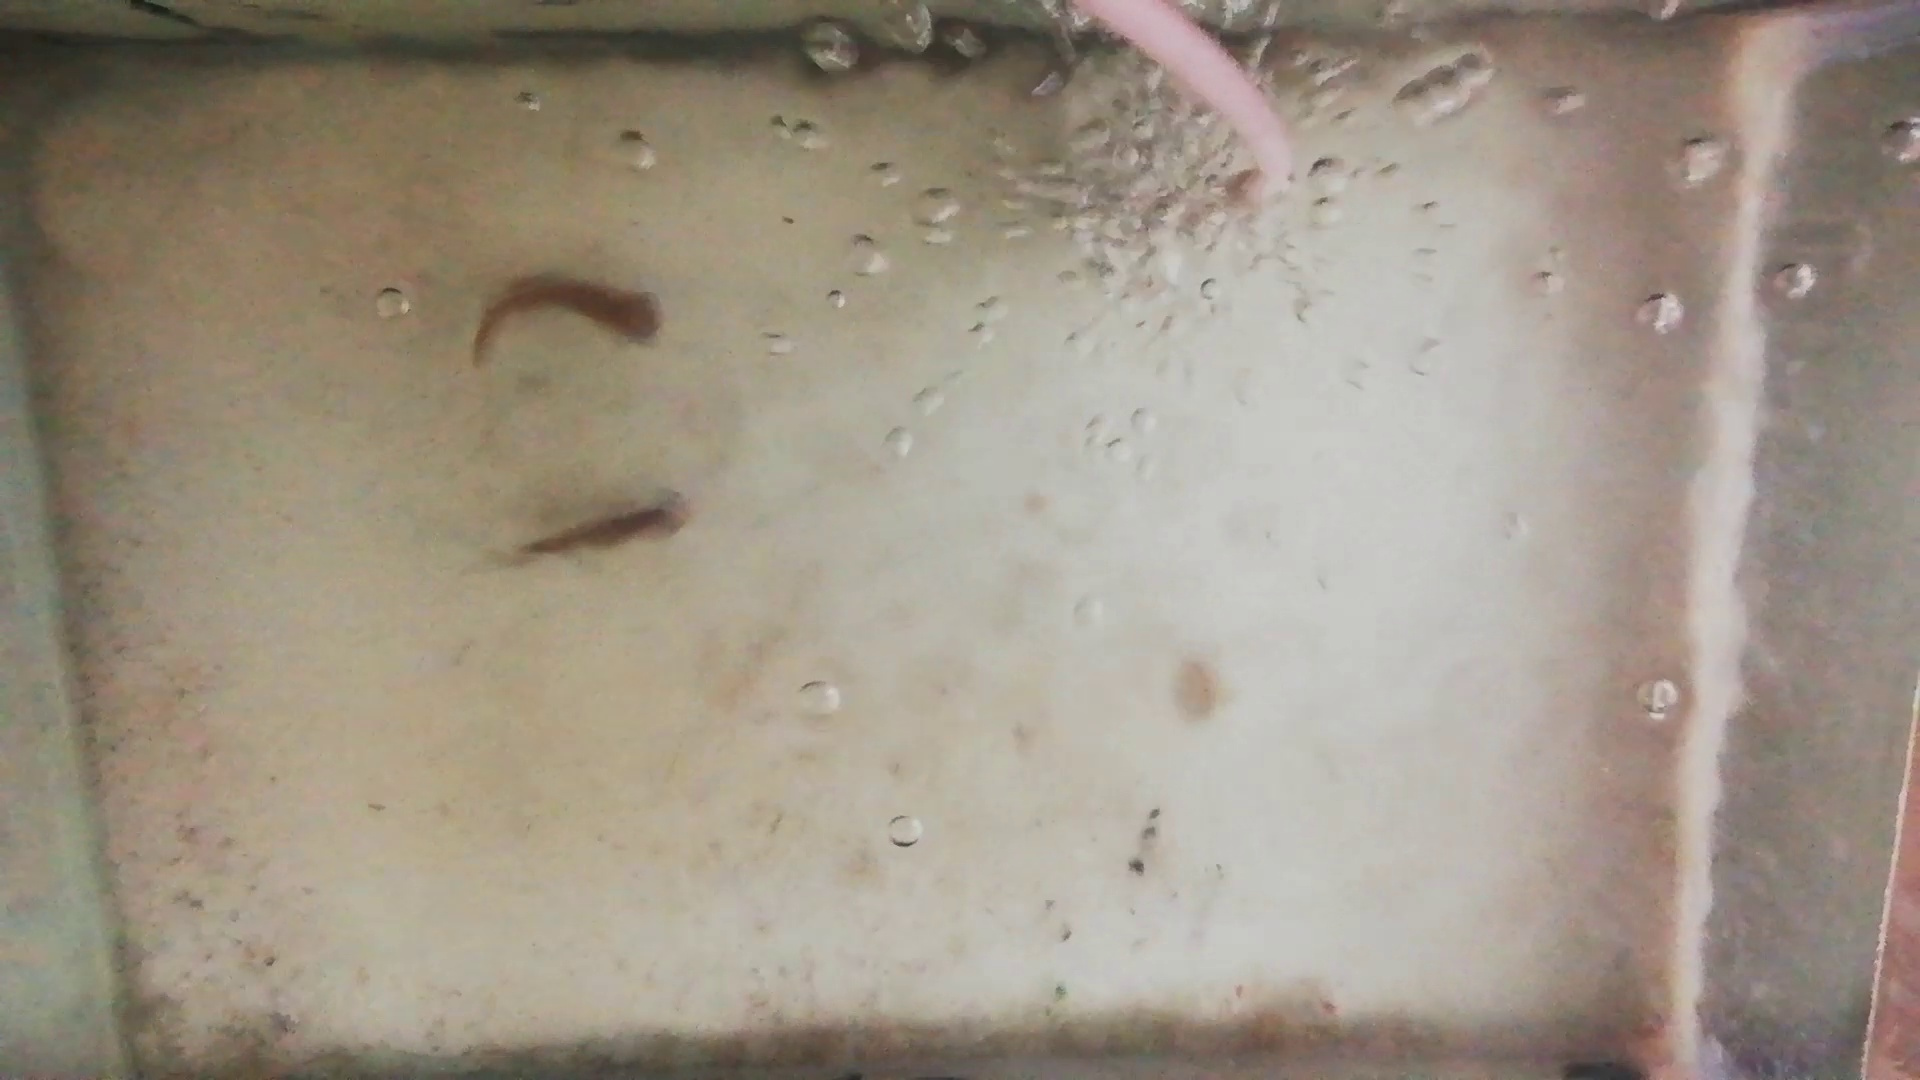fish: (469, 273, 665, 369), (520, 501, 686, 563)
